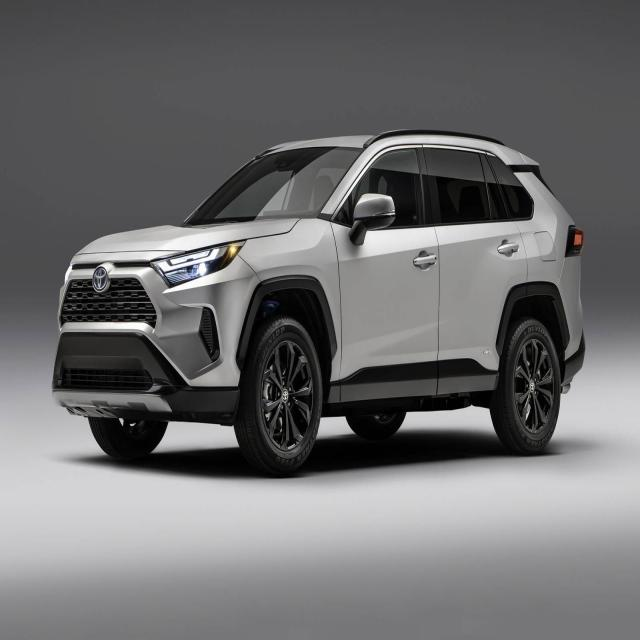light_vehicle: (51, 130, 586, 476)
